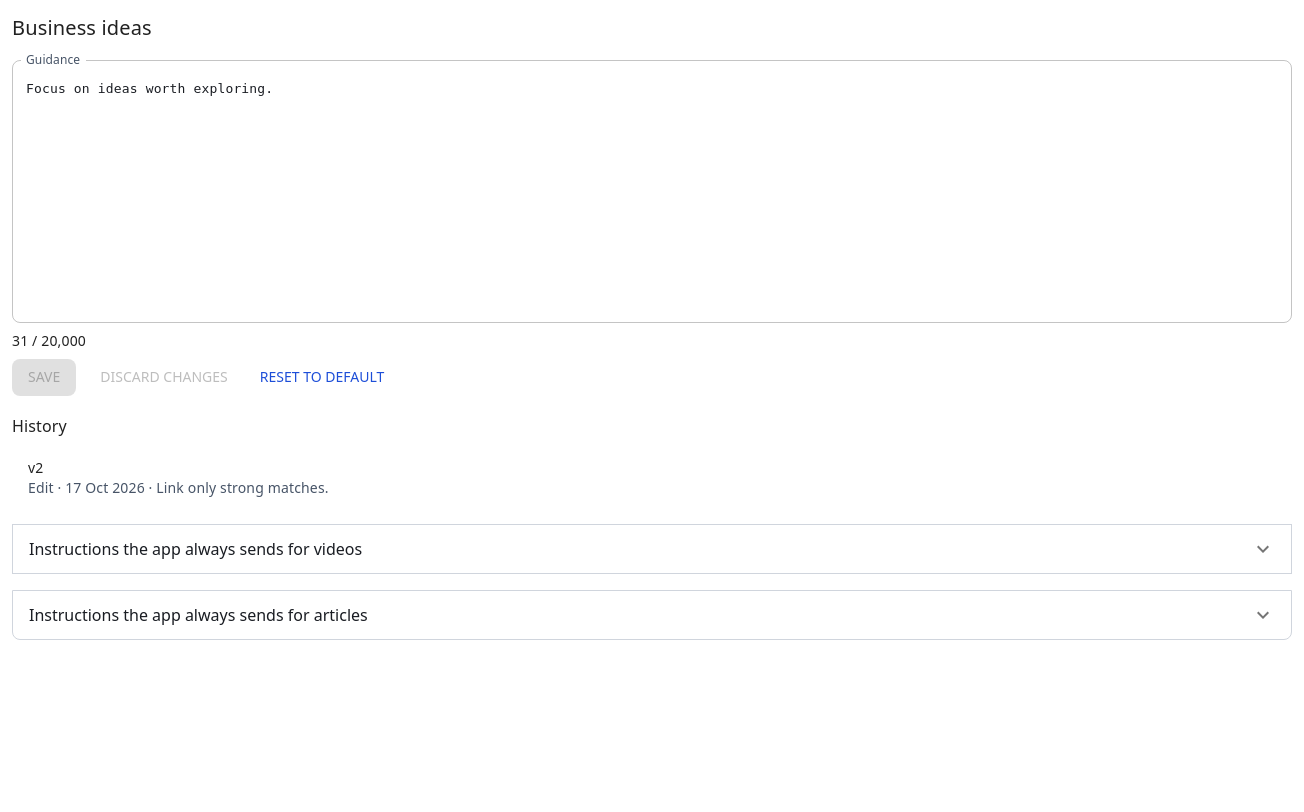
Test: PromptPanel, a summary profile › saves the edit as a new version and clears the edit marker
This screenshot has width=1304, height=812.
In the text box labelled "Guidance": (652, 192) [26,76,1278,306], type " more"
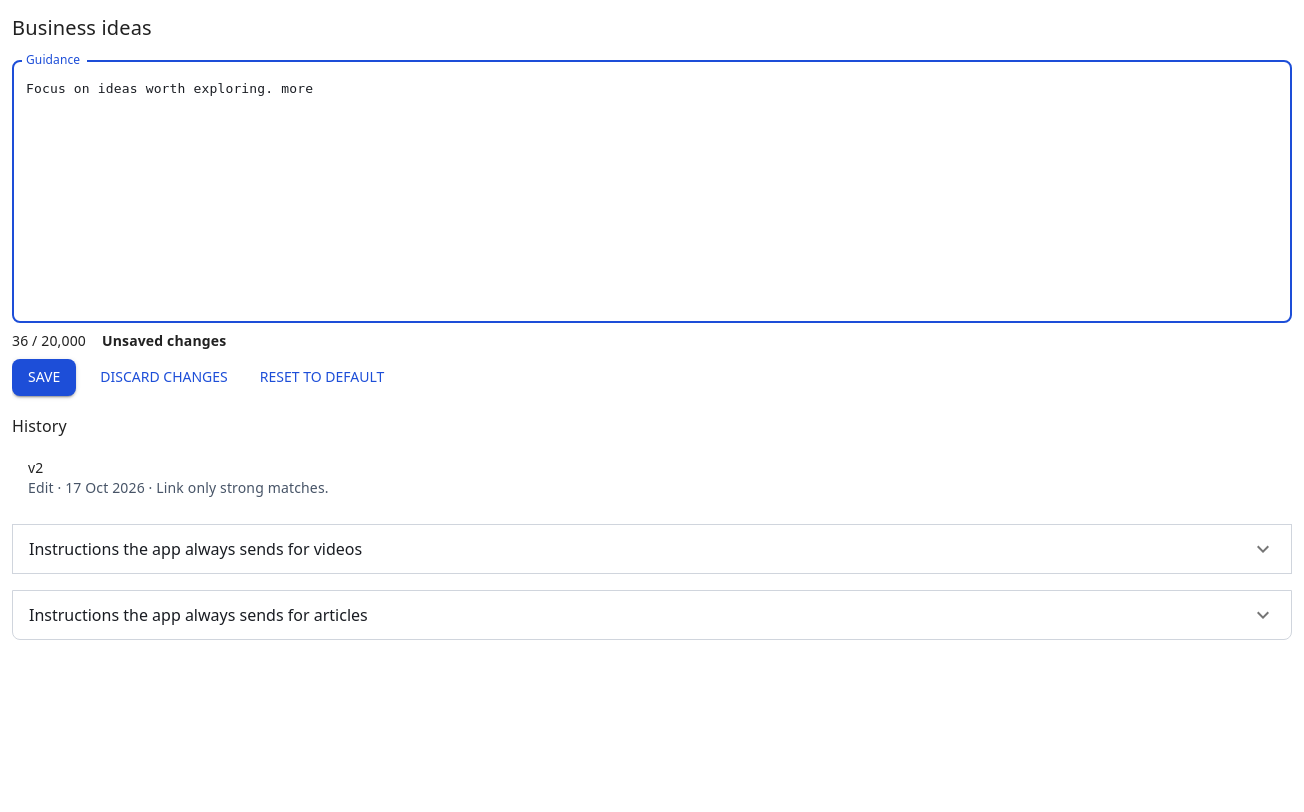
Click the button "Save": (44, 377) [12,359,76,396]
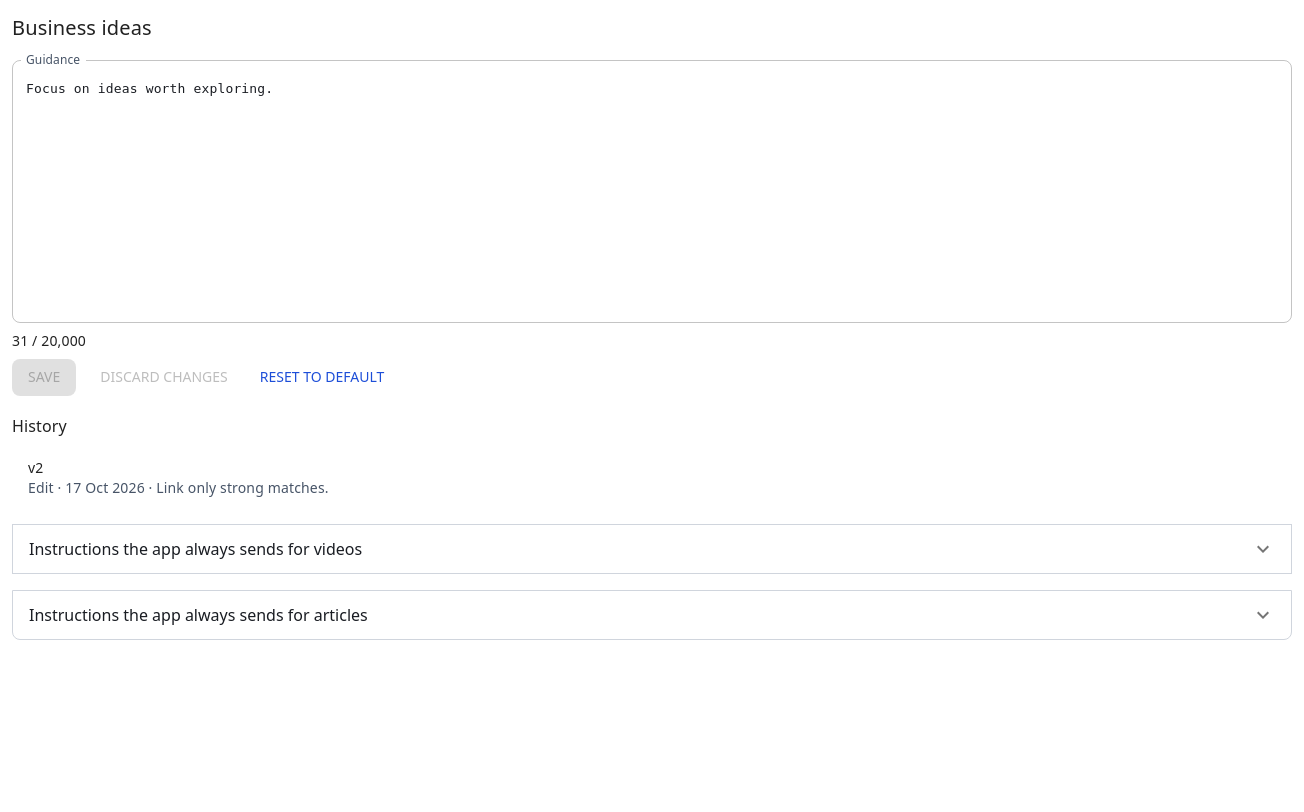
expect the text "Unsaved changes" is gone: met
